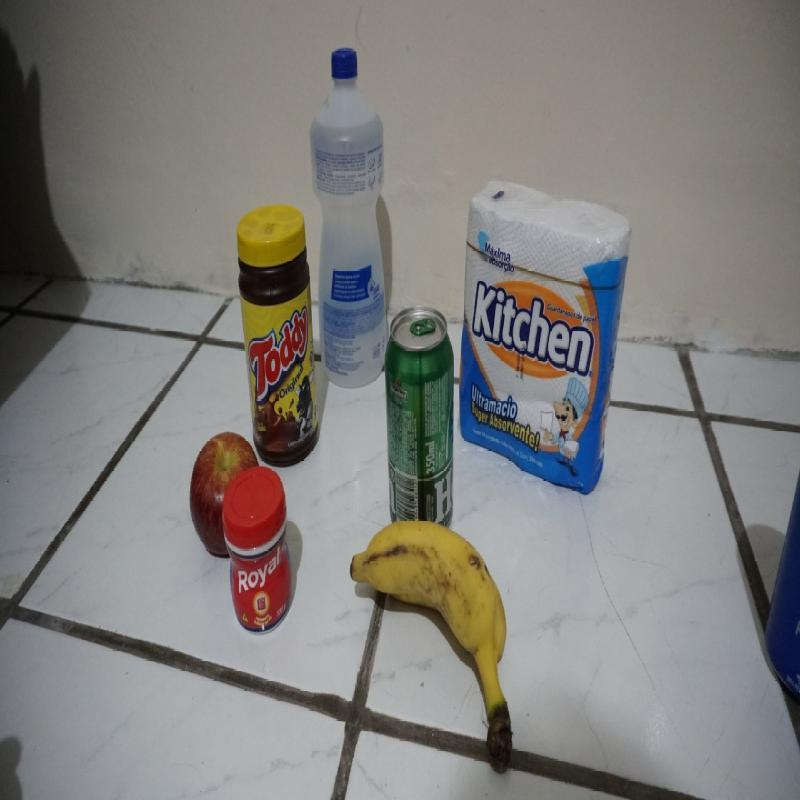Alcohol Bottle: (310, 48, 388, 390)
Apple: (190, 432, 260, 556)
Banana: (349, 522, 518, 770)
Beer can: (387, 305, 455, 526)
Chocolate Powder: (237, 205, 318, 467)
Napkin: (457, 178, 629, 497)
Yeast: (223, 464, 294, 634)
